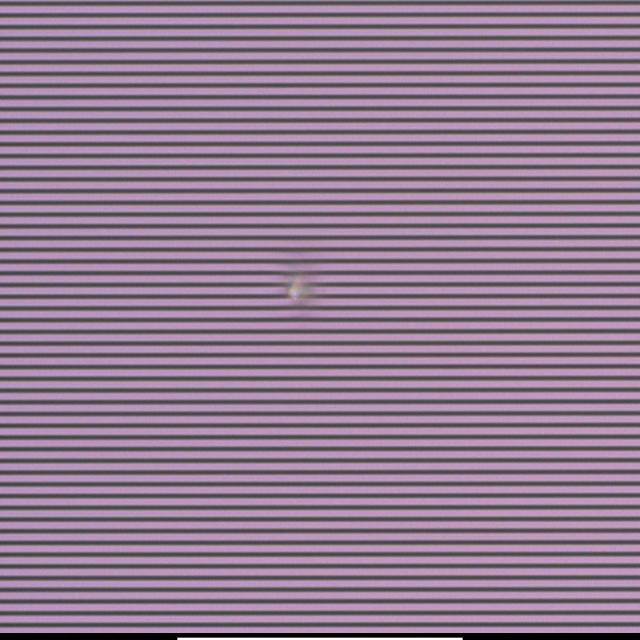nonvisual: (280, 270, 312, 306)
